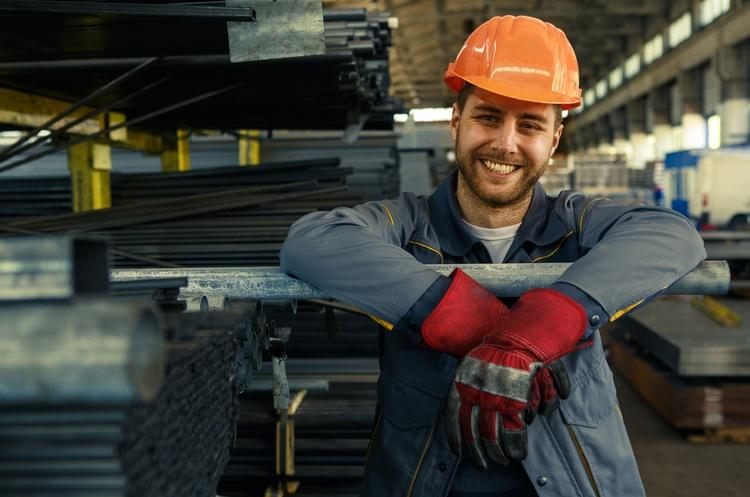helmet: (444, 13, 586, 116)
